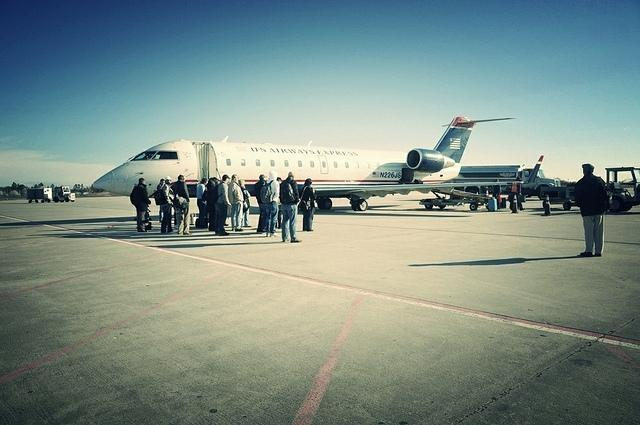truck: (536, 170, 639, 214), (455, 165, 561, 198)
